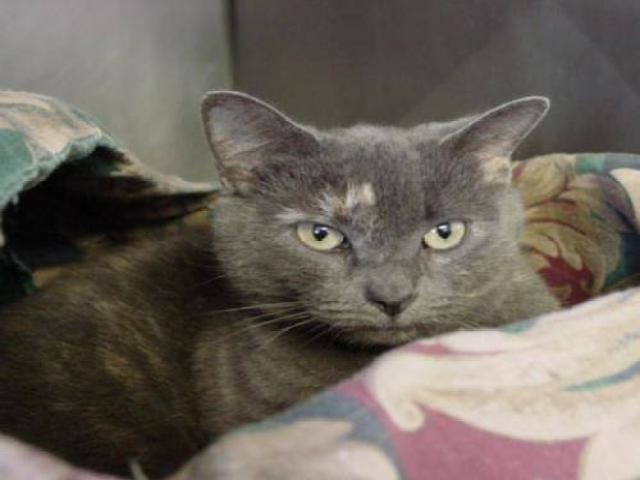cat: (5, 86, 595, 474)
